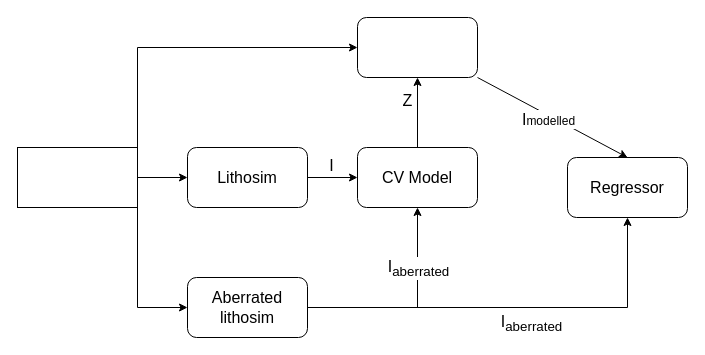
This 705x355 diagram has some shape labels left out. The shapes that lost their labels are listed below. From the top down, each one's centre as x and y in pixels, then its label:
At point 417,47: "Lithosim + Zernike".
At point 77,177: "Designed mask".
